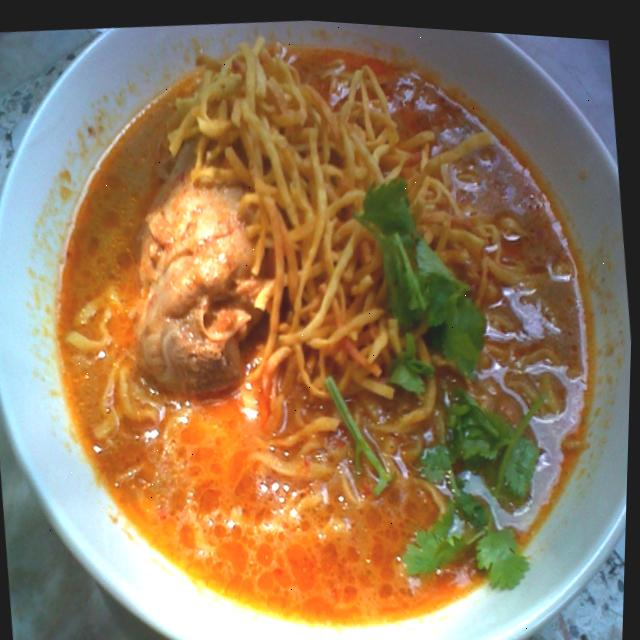面条主食: (28, 7, 637, 640)
